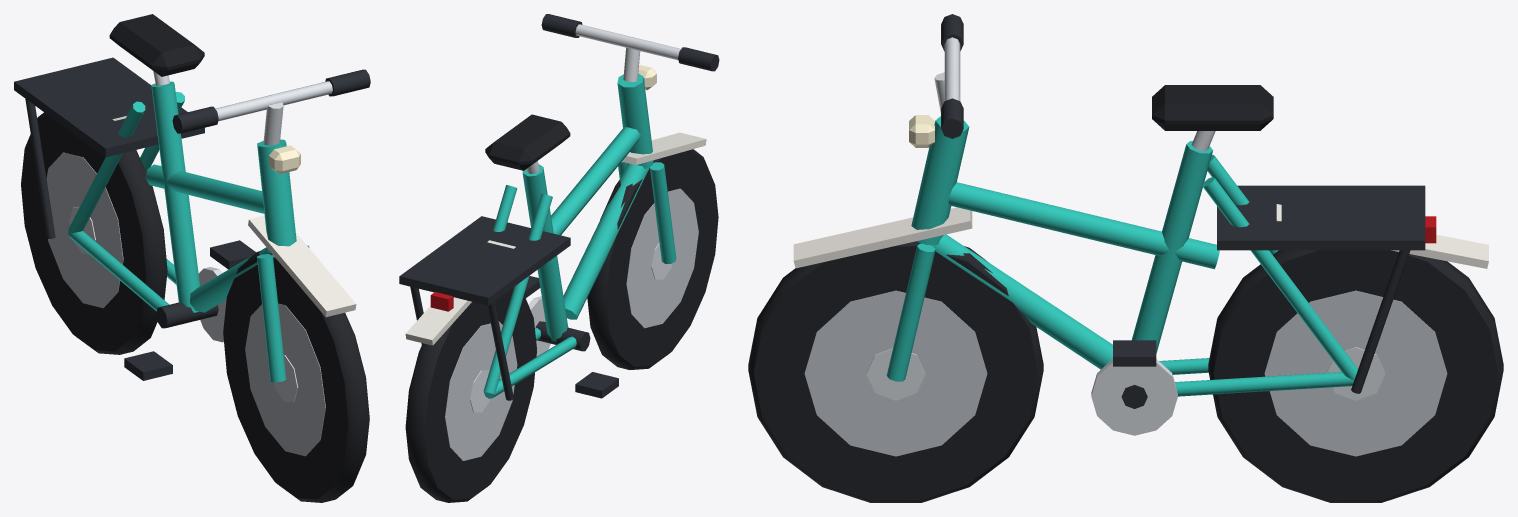
Rendered from bicycle.glb.
3 renders of one model, left to right at view 1: azimuth 30°, elevation 25°; view 2: azimuth 150°, elevation 25°; view 3: azimuth 270°, elevation 25°, orthographic. The views are drawn at different scales.
Visible parts, largest first — view 1: body, wheel_F, wheel_R, fork; view 2: body, wheel_F, wheel_R, fork; view 3: wheel_F, wheel_R, body, fork.
Boxes of the visible parts, box(x1,y1,x2,y2) form: body: box(14, 14, 274, 380); wheel_F: box(223, 251, 369, 502); wheel_R: box(21, 112, 167, 354); fork: box(172, 69, 370, 382); body: box(399, 114, 649, 400); wheel_F: box(587, 149, 718, 369); wheel_R: box(405, 287, 536, 502); fork: box(541, 14, 719, 263); wheel_F: box(748, 241, 1043, 502); wheel_R: box(1208, 250, 1503, 502); body: box(930, 85, 1488, 435); fork: box(793, 14, 972, 381).
Size of the model in its own units: 0.57 by 1.1 by 1.74.
